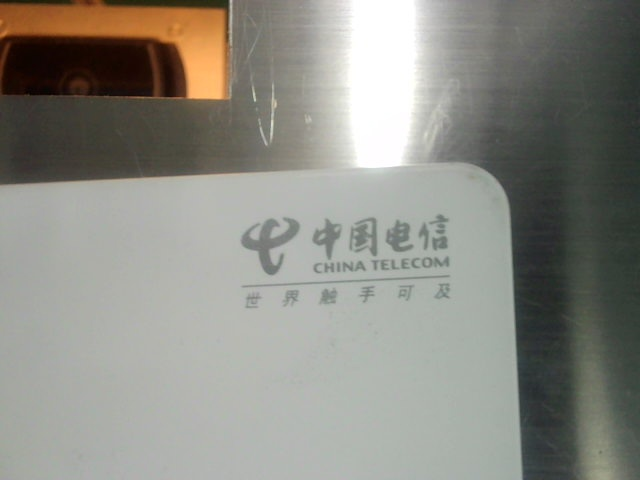AB_ChinaTelecom: (231, 215, 466, 311)
